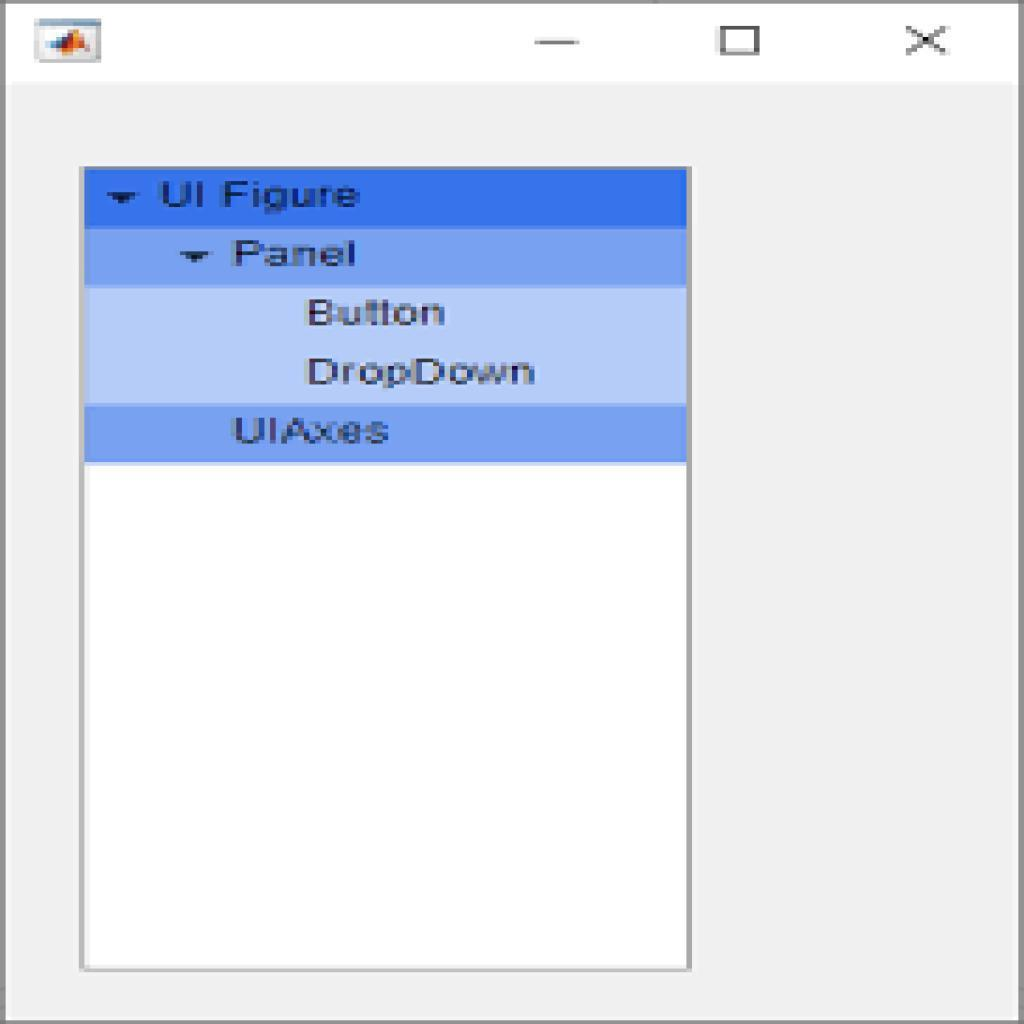button: (86, 406, 689, 465)
checkbox: (715, 21, 765, 61)
dropdown: (84, 167, 688, 231), (85, 229, 691, 286)
icon: (904, 21, 953, 61), (524, 32, 588, 57)
